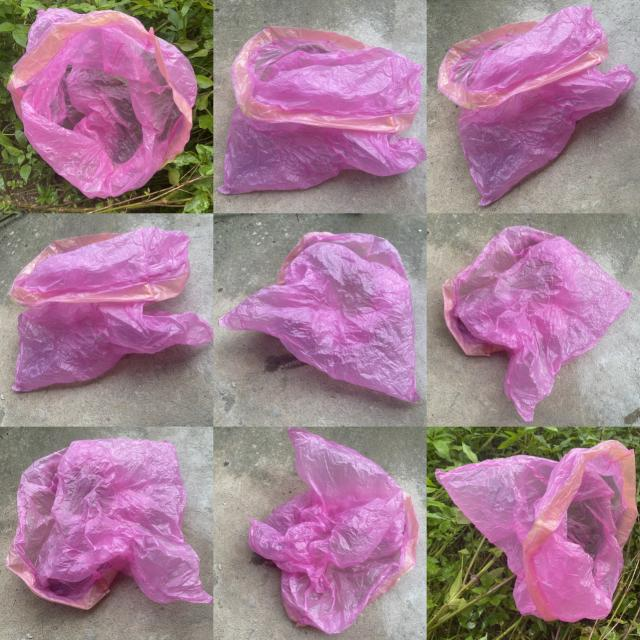Single-layer Plastic: (438, 6, 636, 204), (442, 226, 631, 421), (437, 440, 638, 622), (8, 9, 198, 198), (6, 439, 212, 609), (249, 429, 418, 634), (220, 26, 425, 194), (219, 231, 420, 401), (10, 228, 212, 391)
